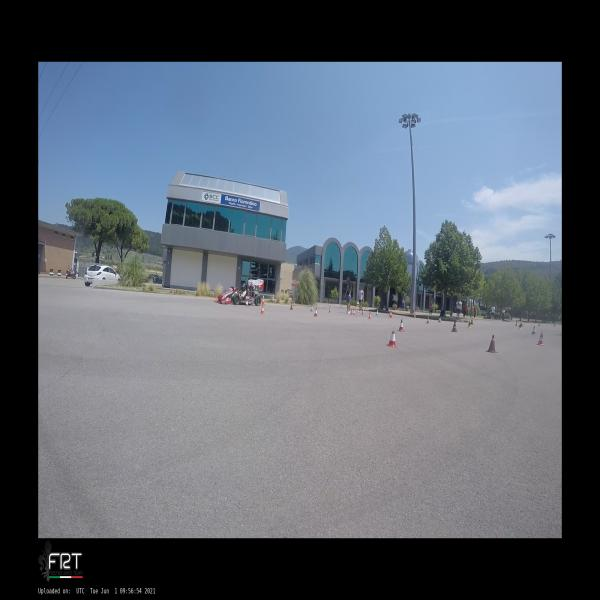blue_cone: (532, 326, 536, 334), (438, 315, 441, 323), (310, 305, 313, 311), (376, 310, 379, 315), (413, 313, 416, 318)
large_orange_cone: (451, 320, 458, 332), (261, 296, 265, 304), (471, 318, 473, 324)
orange_cone: (386, 327, 398, 348), (398, 319, 406, 332), (537, 333, 544, 346), (260, 303, 265, 315), (313, 308, 318, 317), (368, 311, 372, 319), (426, 316, 430, 324), (328, 307, 332, 313), (245, 299, 248, 306), (361, 309, 364, 315), (350, 309, 353, 315), (390, 312, 393, 318), (390, 312, 392, 318), (294, 302, 296, 307), (353, 309, 355, 314)
unknown_cone: (486, 335, 498, 353), (290, 303, 293, 310), (515, 321, 517, 326), (519, 323, 521, 328), (355, 306, 357, 310), (538, 323, 540, 326), (554, 323, 555, 326)
yellow_cone: (467, 320, 471, 328)
